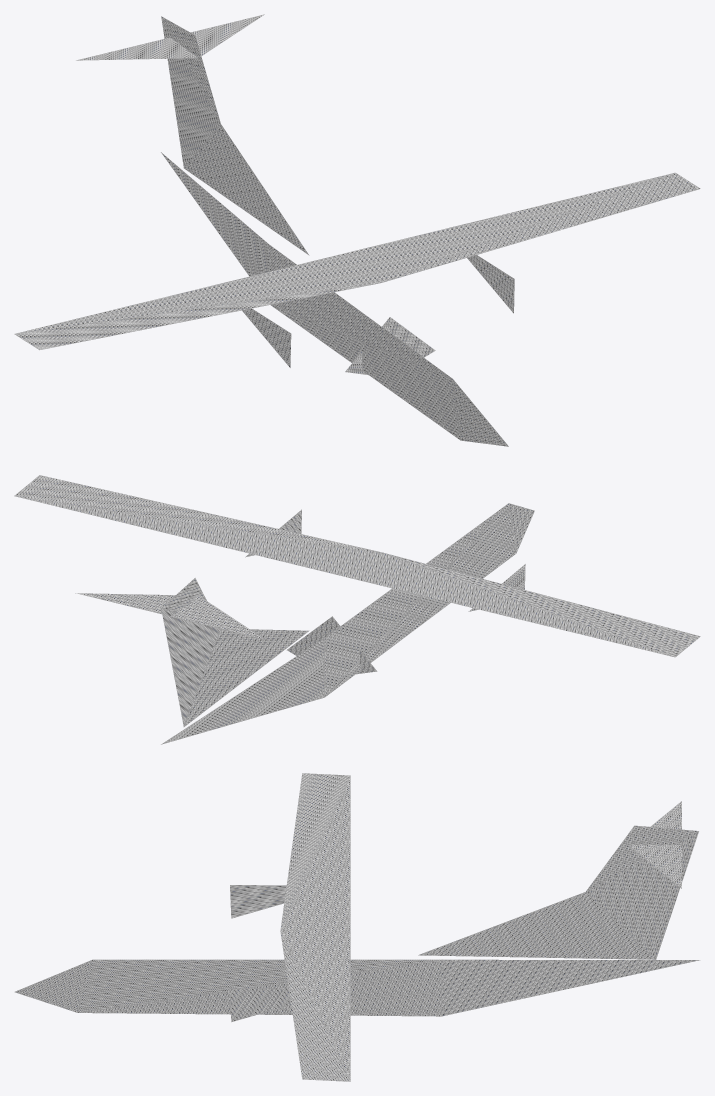
File: OSP_ATR_42-500_MSFS_LOD1.gltf
3 views of the same model, one above another, from view 1: azimuth 30°, elevation 25°; view 2: azimuth 150°, elevation 25°; view 3: azimuth 270°, elevation 25° (orthographic). The views are drawn at different scales.
Visible parts, largest first — view 1: node1; view 2: node1; view 3: node1.
Part boxes in pixels (bbox=[...]): node1: bbox=[14, 14, 700, 446]; node1: bbox=[14, 475, 700, 744]; node1: bbox=[14, 773, 700, 1081].
Size of the model in its own units: 23.83 by 6.89 by 22.58.
